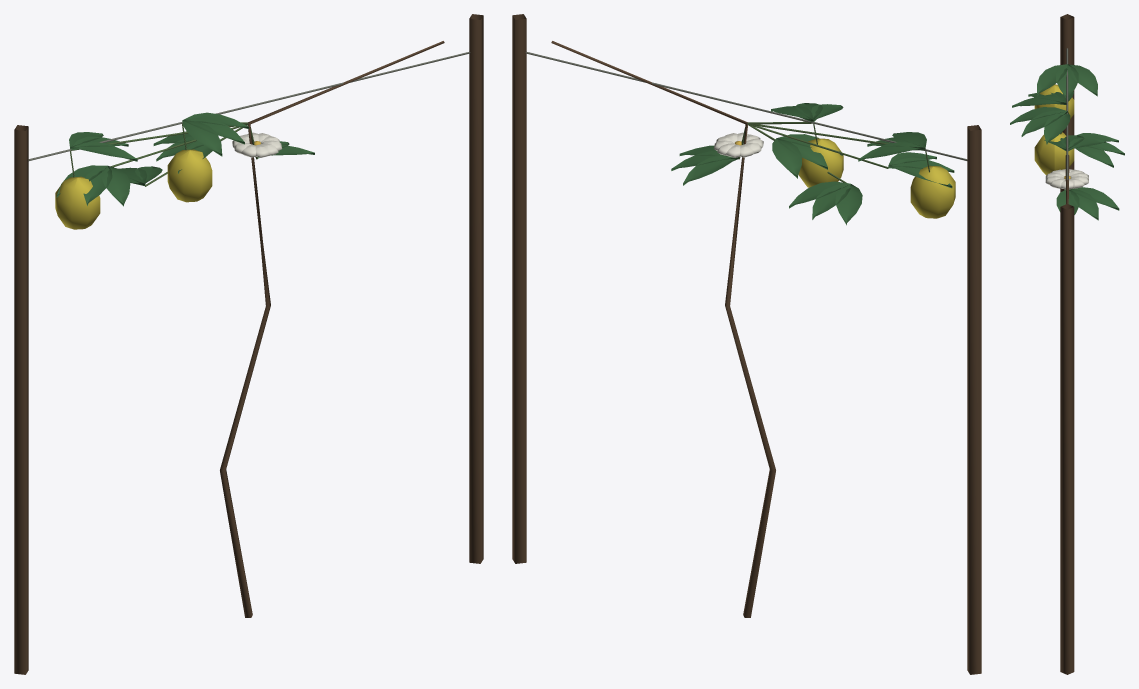
The model's file is maracuya.glb.
3 renders of one model, left to right at view 1: azimuth 30°, elevation 25°; view 2: azimuth 150°, elevation 25°; view 3: azimuth 270°, elevation 25°, orthographic. The views are drawn at different scales.
Parts seen in each view (by area): view 1: maracuya; view 2: maracuya; view 3: maracuya.
Boxes of the visible parts, left/top/right/bottom form: maracuya: left=14, top=14, right=483, bottom=674; maracuya: left=512, top=14, right=981, bottom=674; maracuya: left=1010, top=14, right=1124, bottom=674.
Size of the model in its own units: 1.44 by 1.6 by 0.3583.
